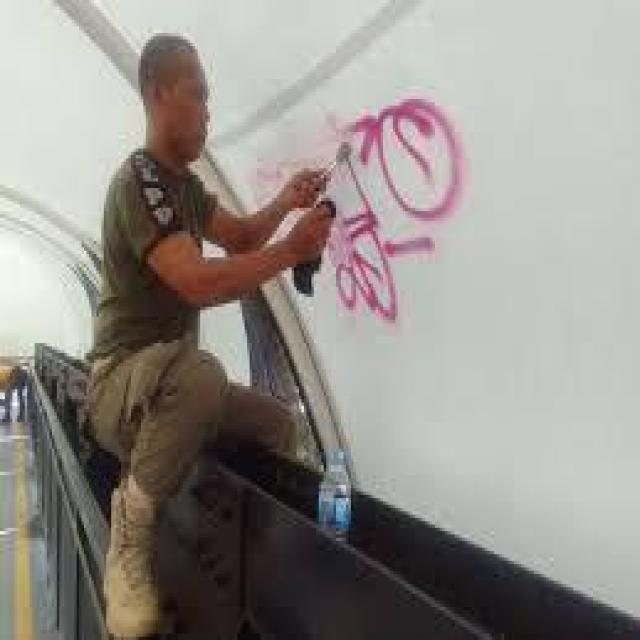nonspitting: (328, 96, 471, 324)
